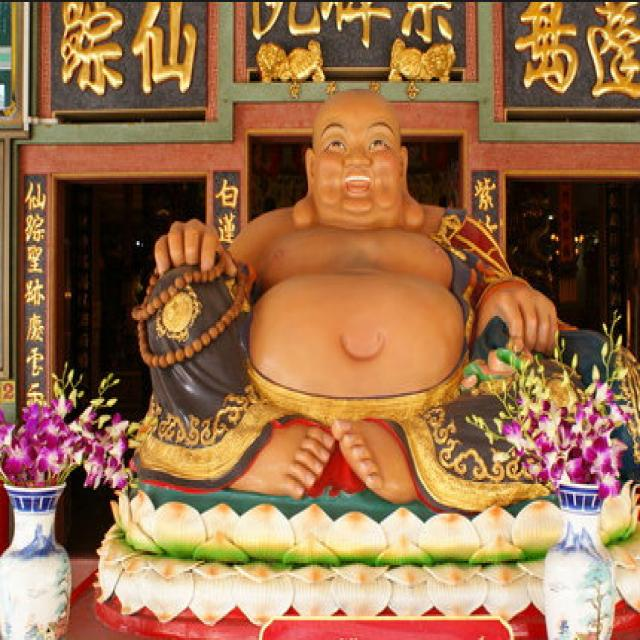Smiling Buddha: (221, 91, 461, 468)
